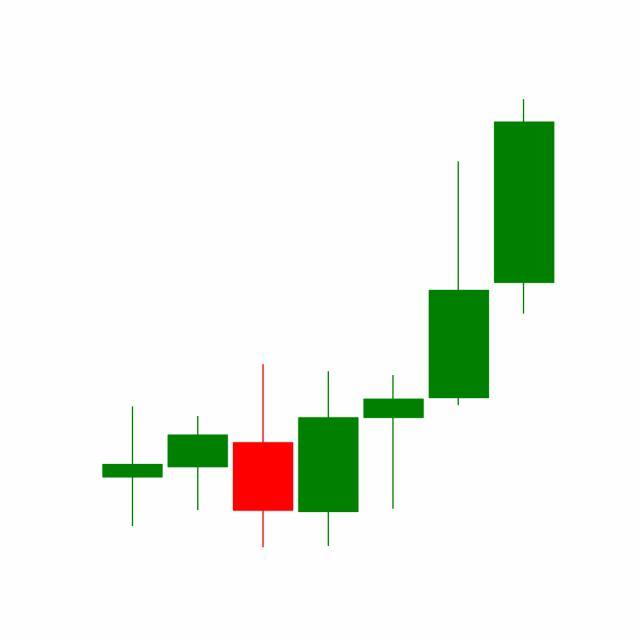Hikkake Pattern: (165, 157, 492, 549)
